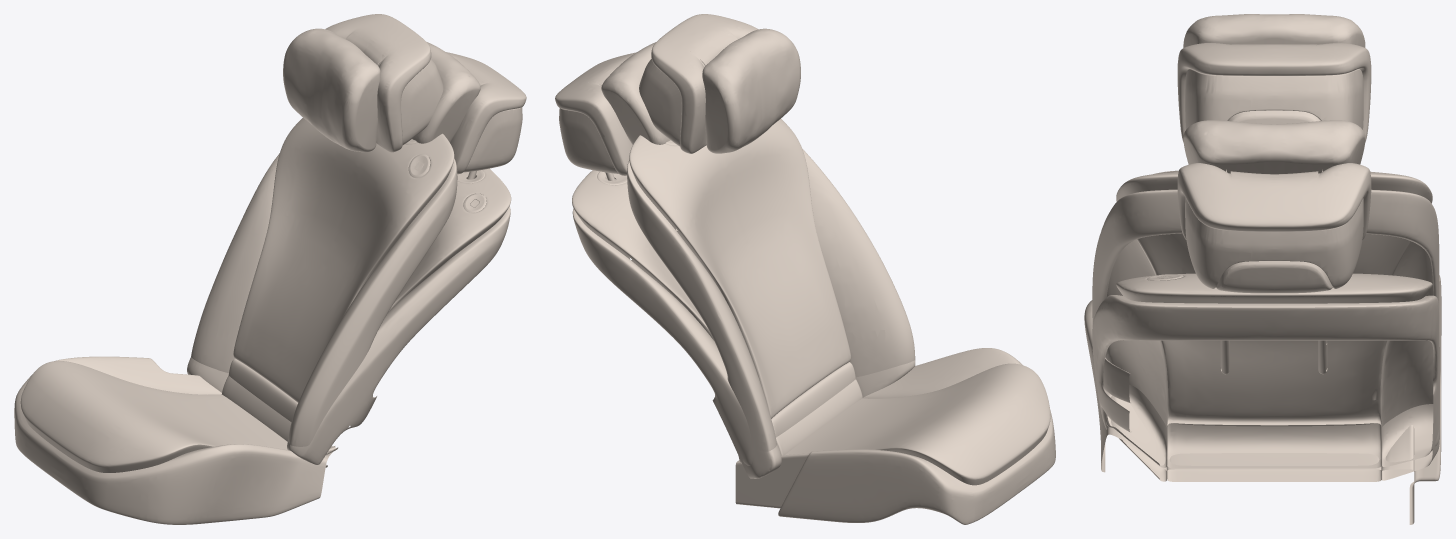
File: Fondsitz_FS.fbx
The picture shows the model from 3 angles, left to right: view 1: azimuth 30°, elevation 25°; view 2: azimuth 150°, elevation 25°; view 3: azimuth 270°, elevation 25°; orthographic projection. The views are drawn at different scales.
Visible parts, largest first — view 1: Fondsitz_FS_25, Fondsitz_FS_45; view 2: Fondsitz_FS_25, Fondsitz_FS_45; view 3: Fondsitz_FS_45, Fondsitz_FS_25.
Boxes of the visible parts, bbox=[...] form: Fondsitz_FS_25: bbox=[14, 14, 457, 524]; Fondsitz_FS_45: bbox=[187, 42, 526, 467]; Fondsitz_FS_25: bbox=[627, 14, 1055, 524]; Fondsitz_FS_45: bbox=[555, 42, 915, 478]; Fondsitz_FS_45: bbox=[1092, 120, 1439, 481]; Fondsitz_FS_25: bbox=[1084, 14, 1441, 524].
Size of the model in its own units: 105 by 91.4 by 54.93.
